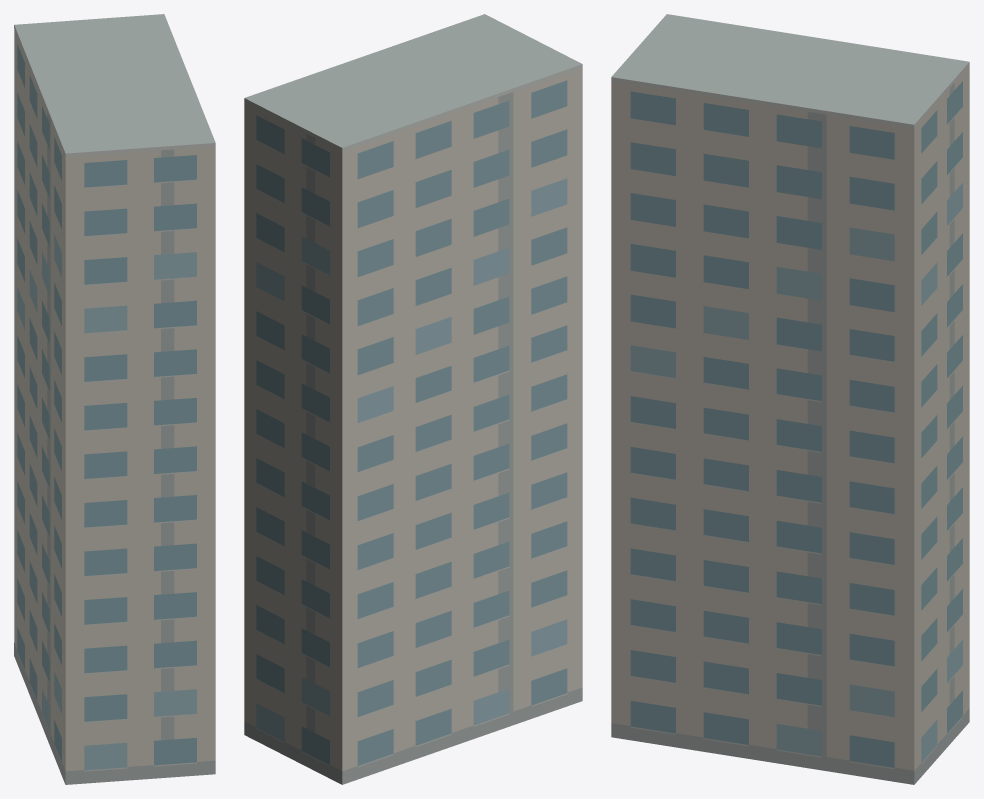
Rendered from residential-a3aa66bf-5b31-43a1-9dba-a8ffa3aa34ed.glb.
3 views of the same model, side by side, from view 1: azimuth 30°, elevation 25°; view 2: azimuth 150°, elevation 25°; view 3: azimuth 270°, elevation 25° (orthographic). The views are drawn at different scales.
Parts seen in each view (by area): view 1: residential-a3aa66bf-5b31-43a1-9dba-a8ffa3aa34ed.tmp; view 2: residential-a3aa66bf-5b31-43a1-9dba-a8ffa3aa34ed.tmp; view 3: residential-a3aa66bf-5b31-43a1-9dba-a8ffa3aa34ed.tmp.
Part boxes in pixels (box(x1,y1,x2,y2)): residential-a3aa66bf-5b31-43a1-9dba-a8ffa3aa34ed.tmp: box(14, 14, 215, 784); residential-a3aa66bf-5b31-43a1-9dba-a8ffa3aa34ed.tmp: box(244, 14, 582, 784); residential-a3aa66bf-5b31-43a1-9dba-a8ffa3aa34ed.tmp: box(611, 14, 969, 784).
Bounding box in the file's own units: 15.48 × 43 × 21.17.
